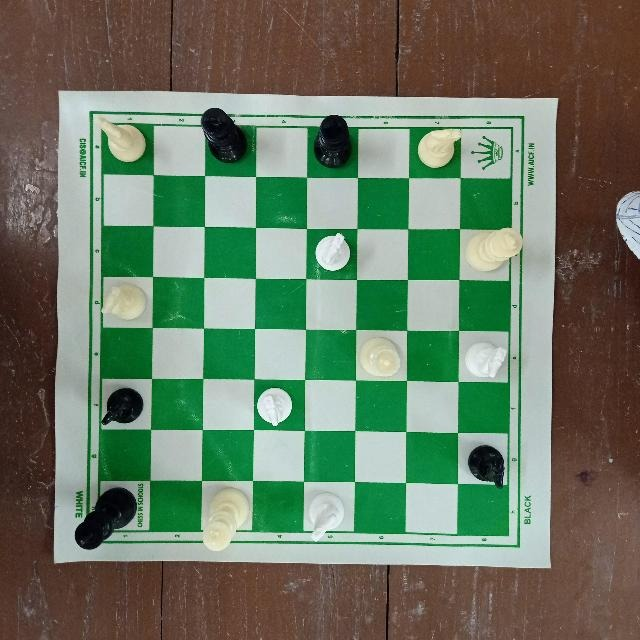black-king: (72, 477, 142, 554), (196, 107, 249, 168), (309, 112, 356, 168)
black-knight: (100, 387, 151, 433), (464, 442, 510, 492)
white-king: (201, 485, 253, 550), (465, 223, 523, 278)
white-knight: (300, 486, 352, 538), (97, 115, 147, 166), (412, 125, 467, 171), (460, 337, 509, 384), (98, 283, 147, 326), (253, 385, 297, 427), (313, 231, 355, 274)
white-queen: (357, 334, 403, 380)
